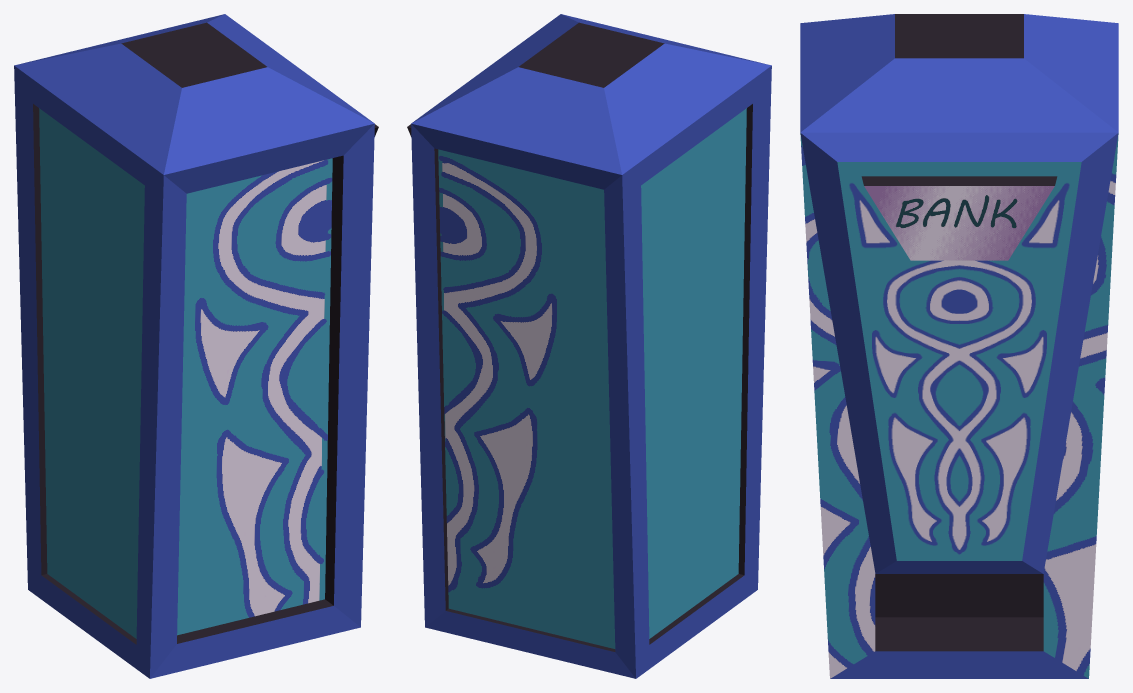
File: Bank.fbx
3 renders of one model, left to right at view 1: azimuth 30°, elevation 25°; view 2: azimuth 150°, elevation 25°; view 3: azimuth 270°, elevation 25°, orthographic. The views are drawn at different scales.
Parts seen in each view (by area): view 1: Cube; view 2: Cube; view 3: Cube.
Part boxes in pixels (box(x1,y1,x2,y2)): Cube: box(14, 14, 378, 678); Cube: box(407, 14, 771, 678); Cube: box(800, 14, 1118, 678).
Bounding box in the file's own units: 232 × 246 × 501.
